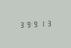nine: (25, 20, 31, 28), (32, 20, 38, 27)
one: (39, 19, 45, 27)
three: (18, 20, 24, 28), (46, 19, 52, 27)
